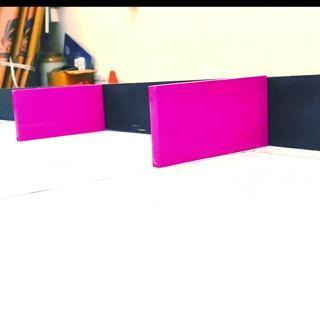xparking: (148, 84, 267, 166), (13, 88, 103, 138)
